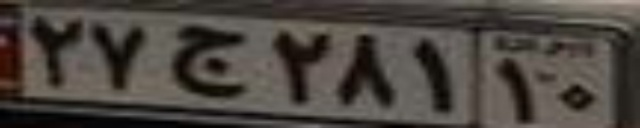0: (556, 84, 596, 111)
1: (413, 38, 452, 112), (494, 59, 534, 122)
2: (269, 31, 331, 103), (27, 15, 84, 87)
7: (89, 23, 148, 90)
8: (336, 33, 395, 104)
jim: (167, 26, 247, 96)
